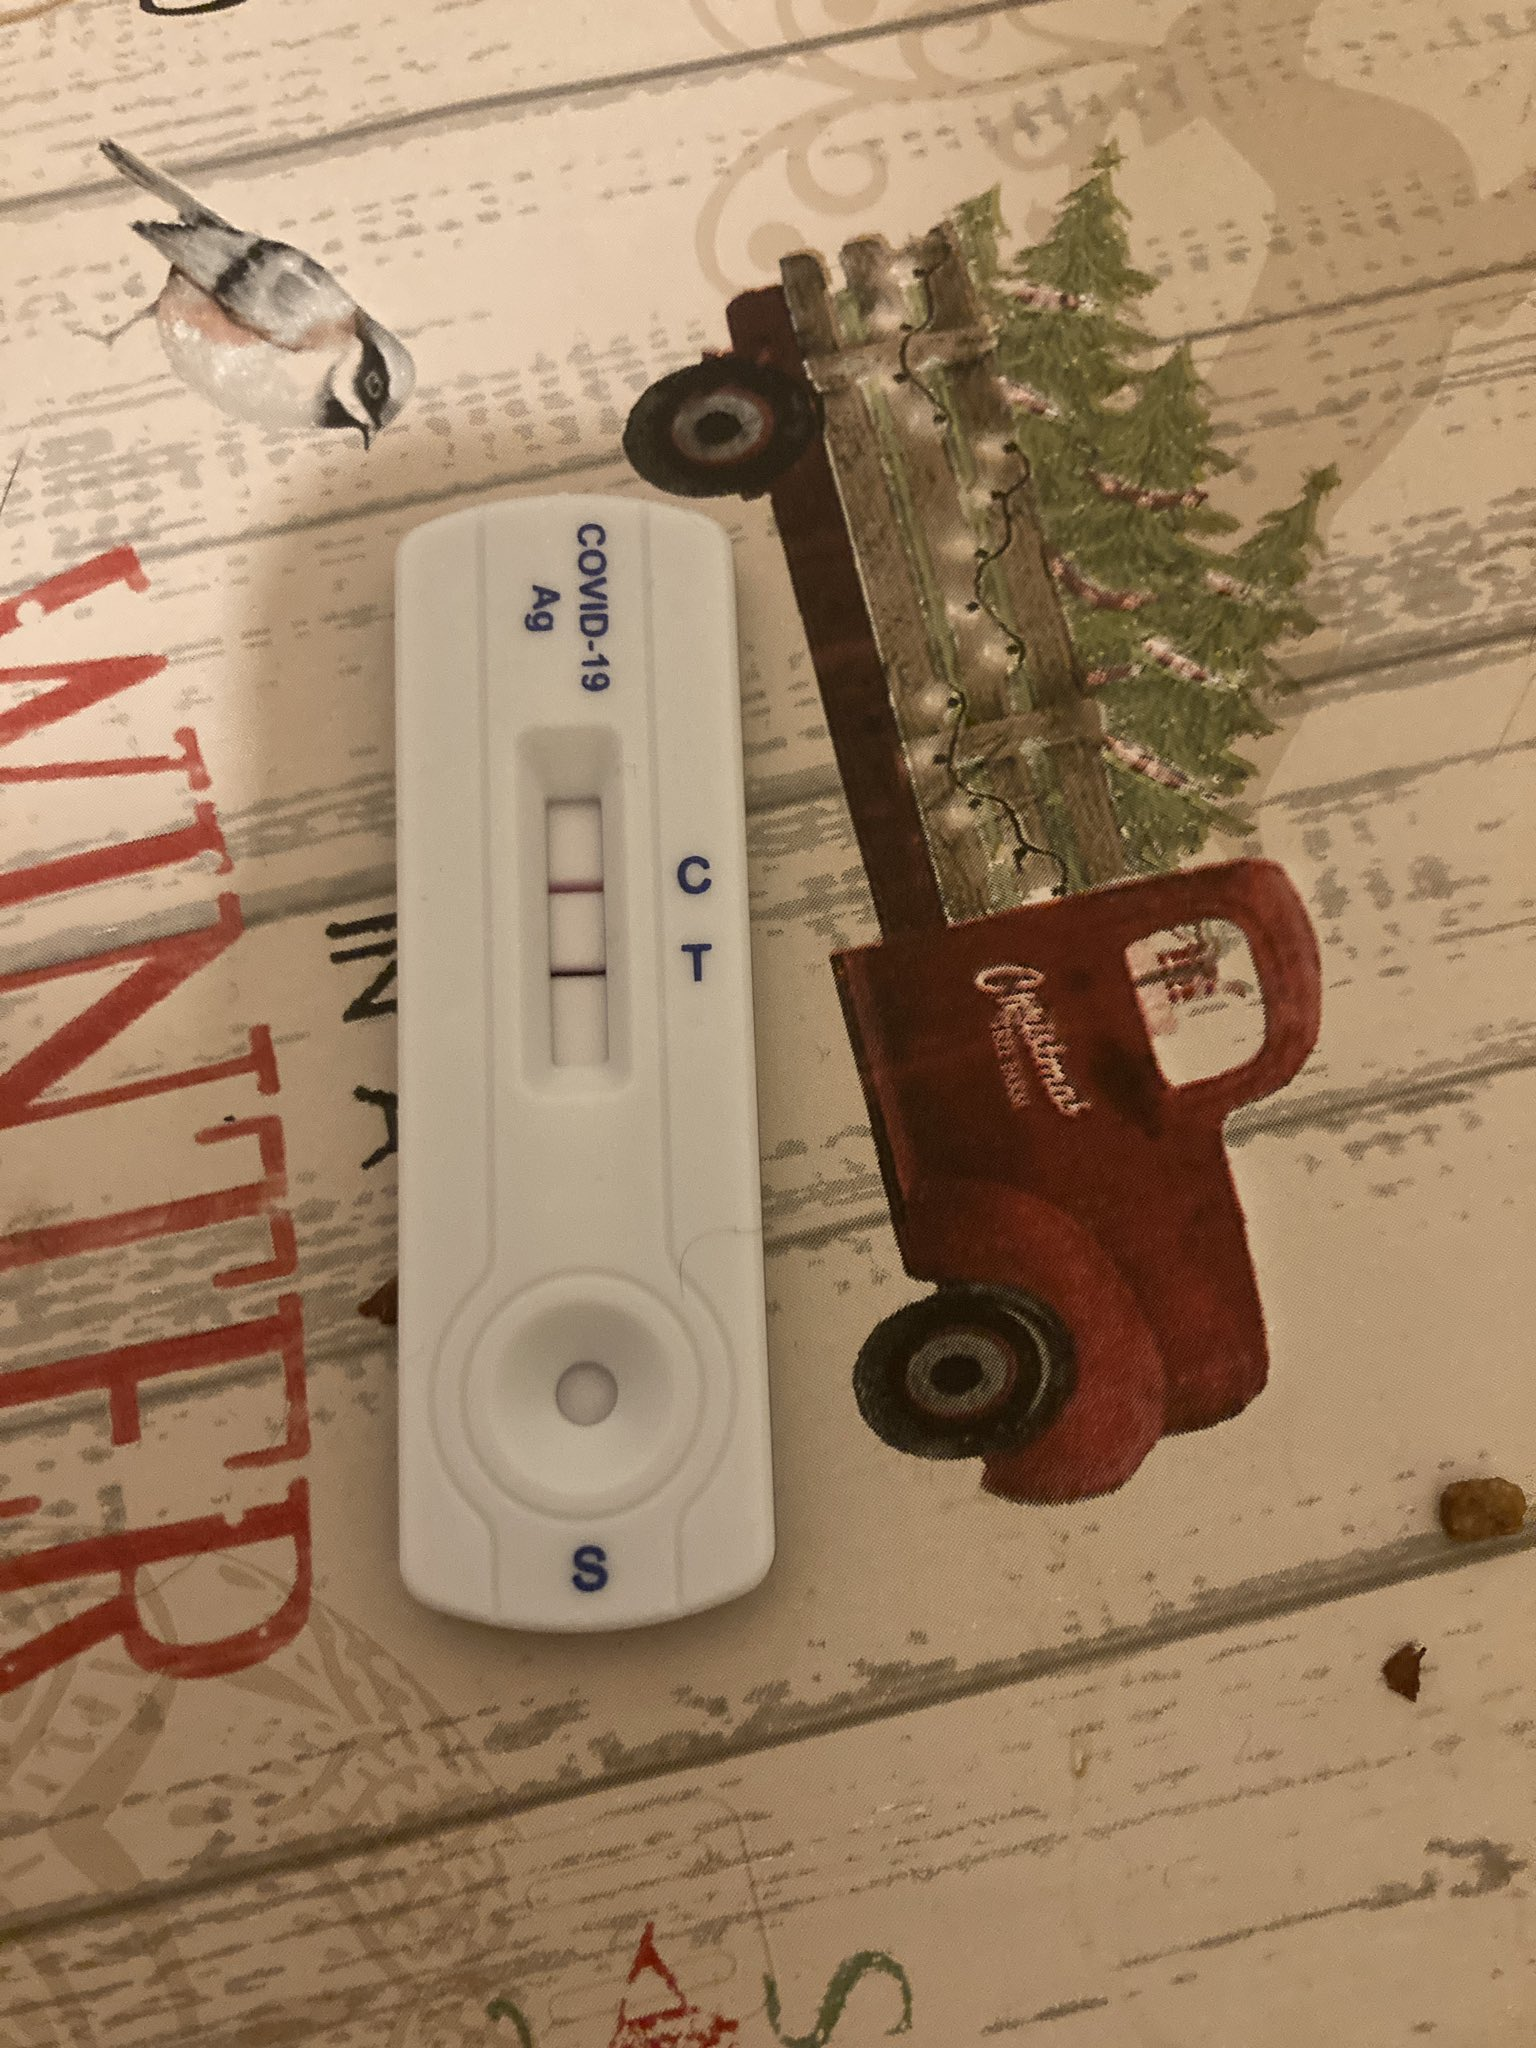positive: (515, 753, 629, 1068)
